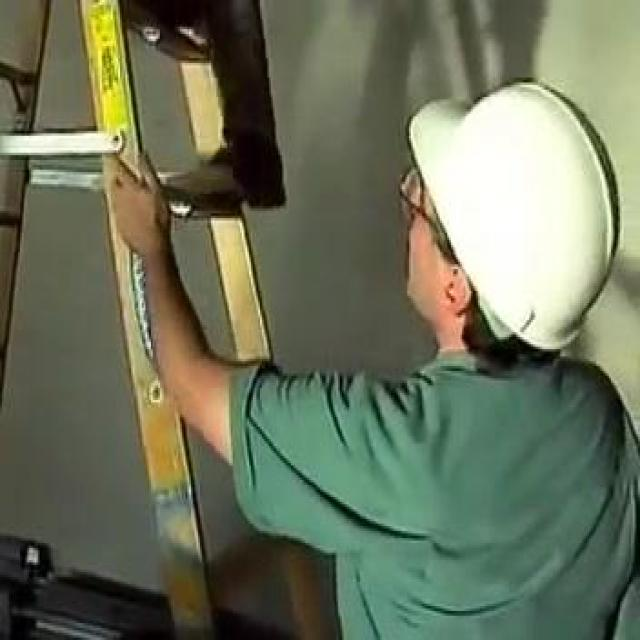Safety-Helmet: (400, 73, 638, 361)
